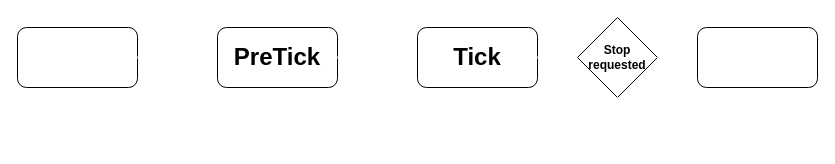
Image size: 835x164. Some labels were removed from this diagram. The centre of each missing label's shape, as x and y in pixels:
"Start" goes at point (77, 57).
"Stop" goes at point (757, 57).
